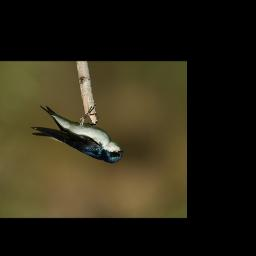Swallow: (29, 102, 125, 164)
